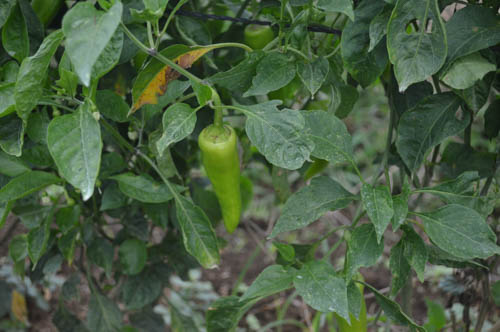ChiliPepper: (201, 128, 245, 233)
